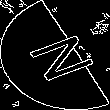N_NE: (14, 26, 96, 84)
